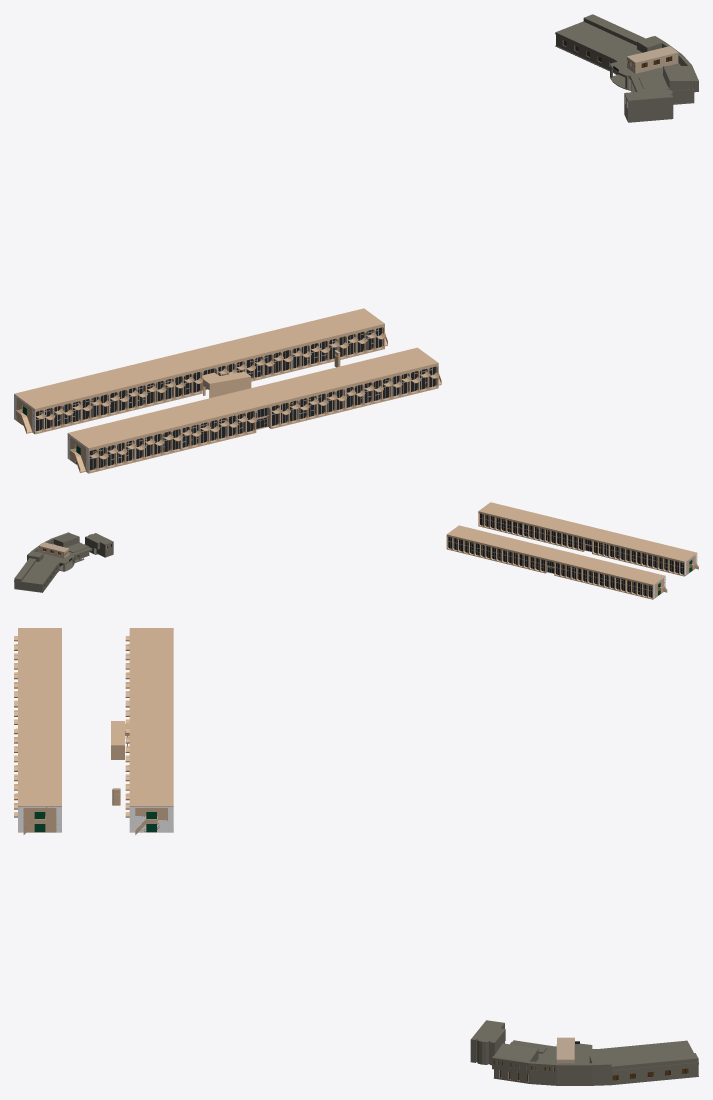
File: td to info.gltf
3 views of the same model, one above another, from view 1: azimuth 30°, elevation 25°; view 2: azimuth 150°, elevation 25°; view 3: azimuth 270°, elevation 25° (orthographic). The views are drawn at different scales.
Parts seen in each view (by area): view 1: 100-200, 300-400, dep info; view 2: 100-200, 300-400, dep info; view 3: 100-200, 300-400, dep info.
Part boxes in pixels (box(x1,y1,x2,y2)): 100-200: box(14, 308, 387, 434); 300-400: box(67, 347, 441, 473); dep info: box(555, 14, 698, 122); 100-200: box(446, 525, 667, 599); 300-400: box(478, 502, 698, 576); dep info: box(14, 532, 113, 592); 100-200: box(111, 628, 173, 834); 300-400: box(14, 628, 61, 834); dep info: box(470, 1020, 698, 1085).
Size of the model in its own units: 640 by 18.11 by 425.
1 material, 1 textured.
